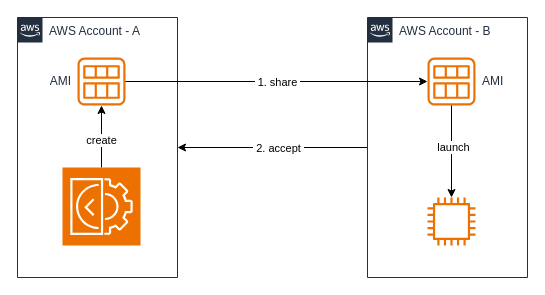
This 545x295 diagram has some shape labels left out. Here are the shapes that lost their labels. From the top down, the centre of each, then its label:
At point (101, 206): "EC2 Image Builder".
At point (451, 221): "EC2 Instance".
